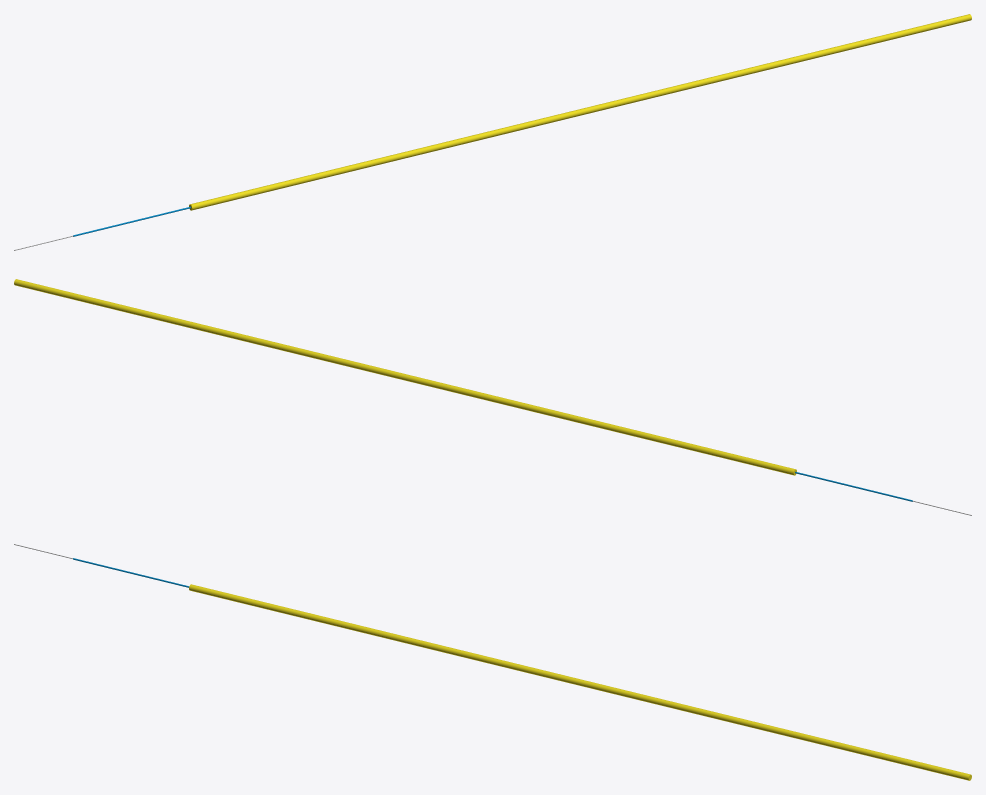
Rendered from fiber_optic_patch_cord.gltf.
3 views of the same model, one above another, from view 1: azimuth 30°, elevation 25°; view 2: azimuth 150°, elevation 25°; view 3: azimuth 330°, elevation 25° (orthographic).
Visible parts, largest first — view 1: Cylinder; view 2: Cylinder; view 3: Cylinder.
Part boxes in pixels (x1,y1,x2,y2): Cylinder: (14, 14, 971, 250); Cylinder: (14, 279, 971, 515); Cylinder: (14, 544, 971, 780).
Size of the model in its own units: 0.3355 by 0.0019 by 0.002.
